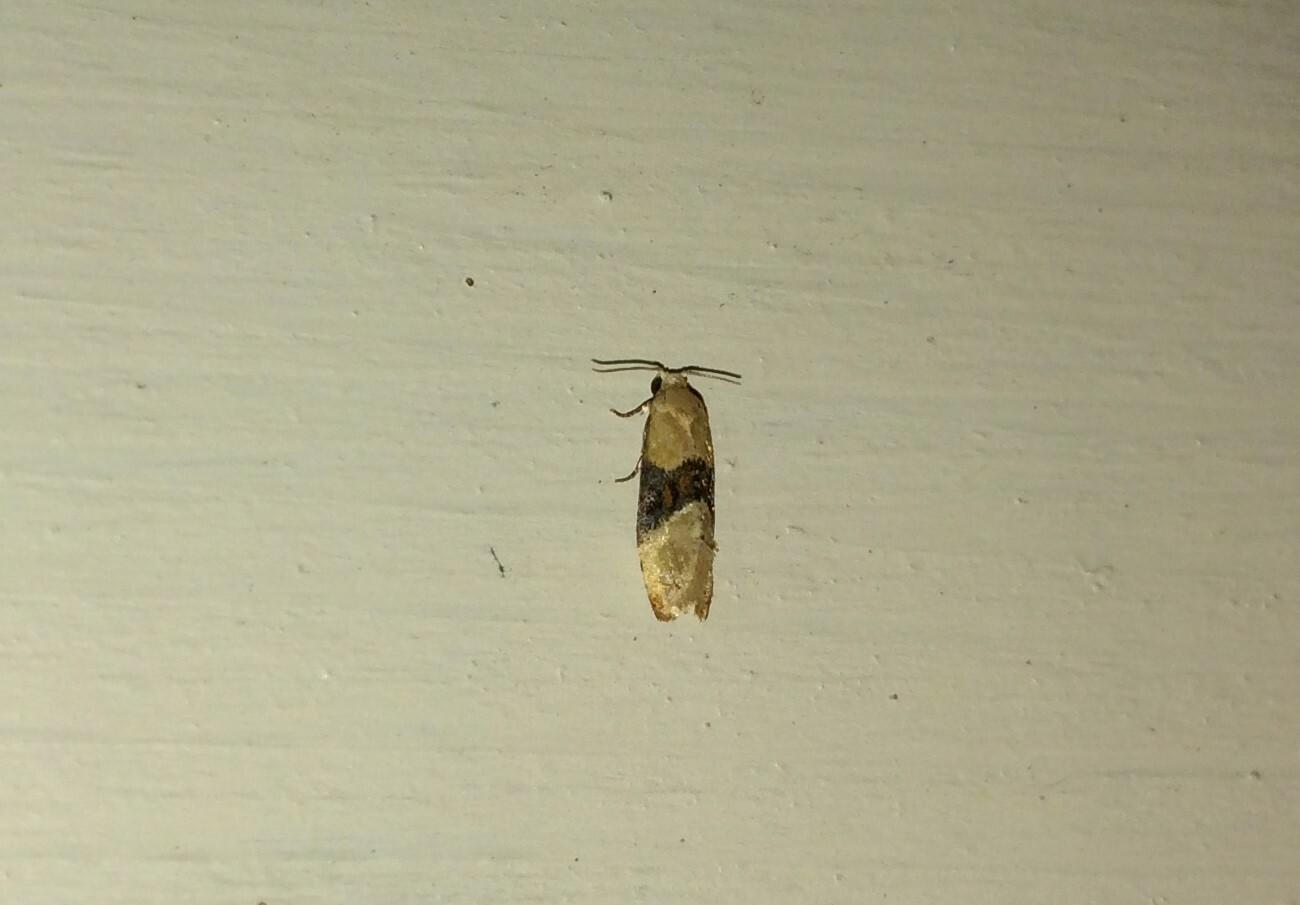Eupoecilia Ambiguella: (590, 357, 743, 624)
